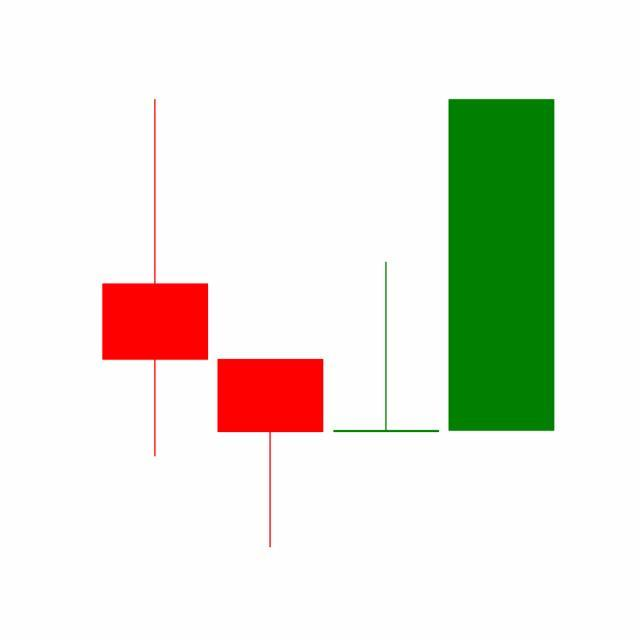Gravestone Doji: (329, 260, 445, 434)
